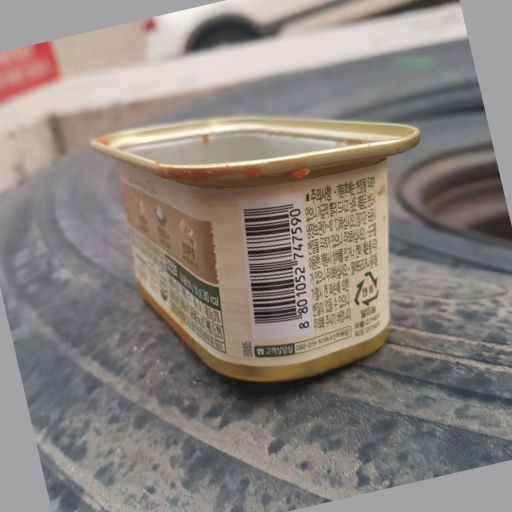Metal_2: (90, 112, 425, 380)
